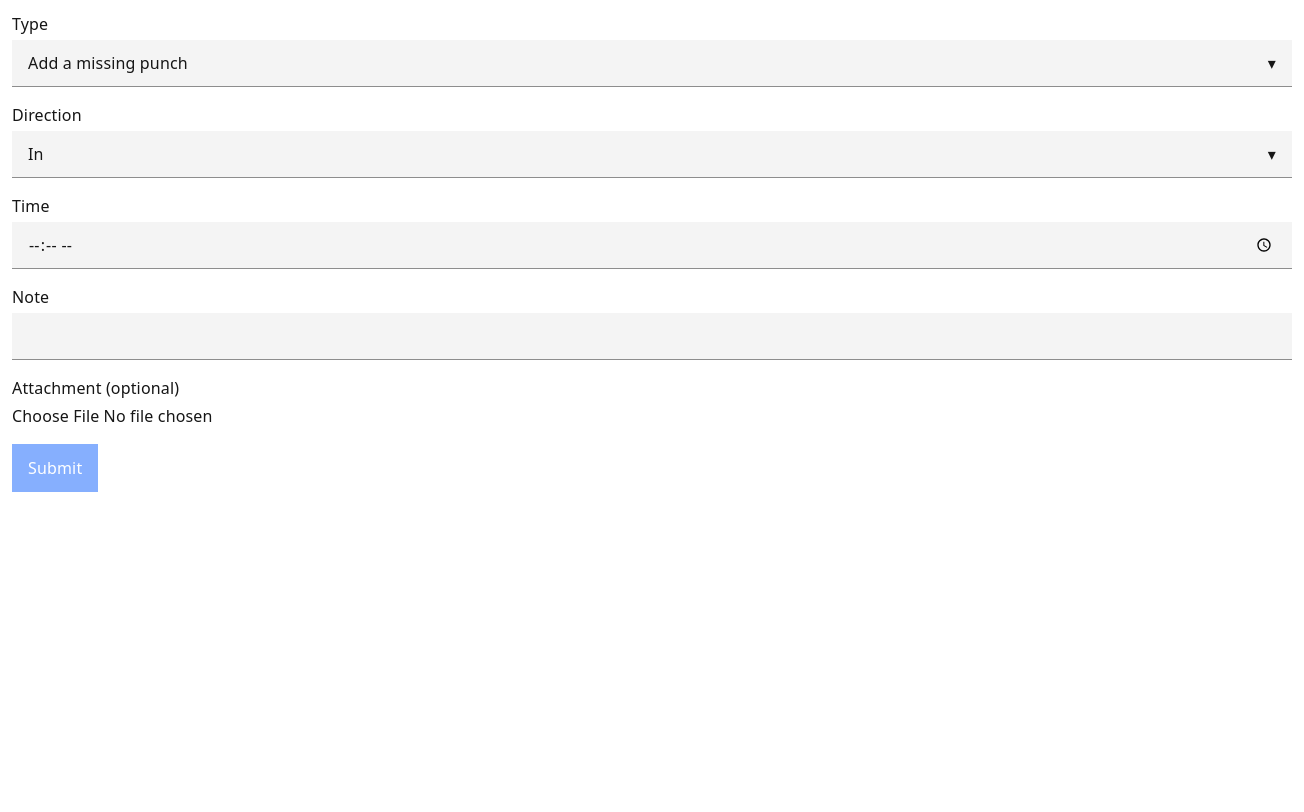
Test: CorrectionForm › shows both the target-punch picker AND direction + time for "amend"
This screenshot has width=1304, height=812.
Click the dropdown named "Type".
click(108, 63)  # box x1=12 y1=40 x2=1292 y2=87
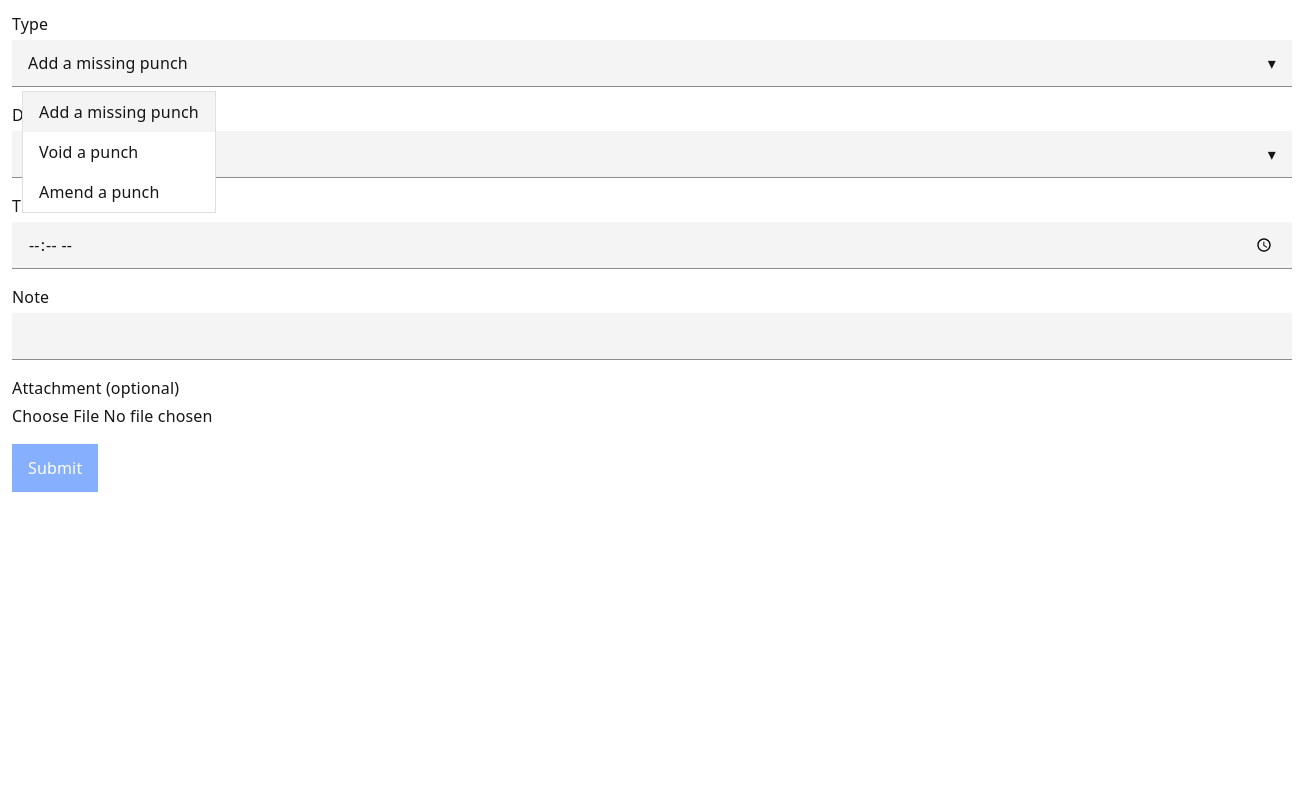
Click the option "Amend a punch".
click(99, 192)  # box x1=39 y1=181 x2=160 y2=203
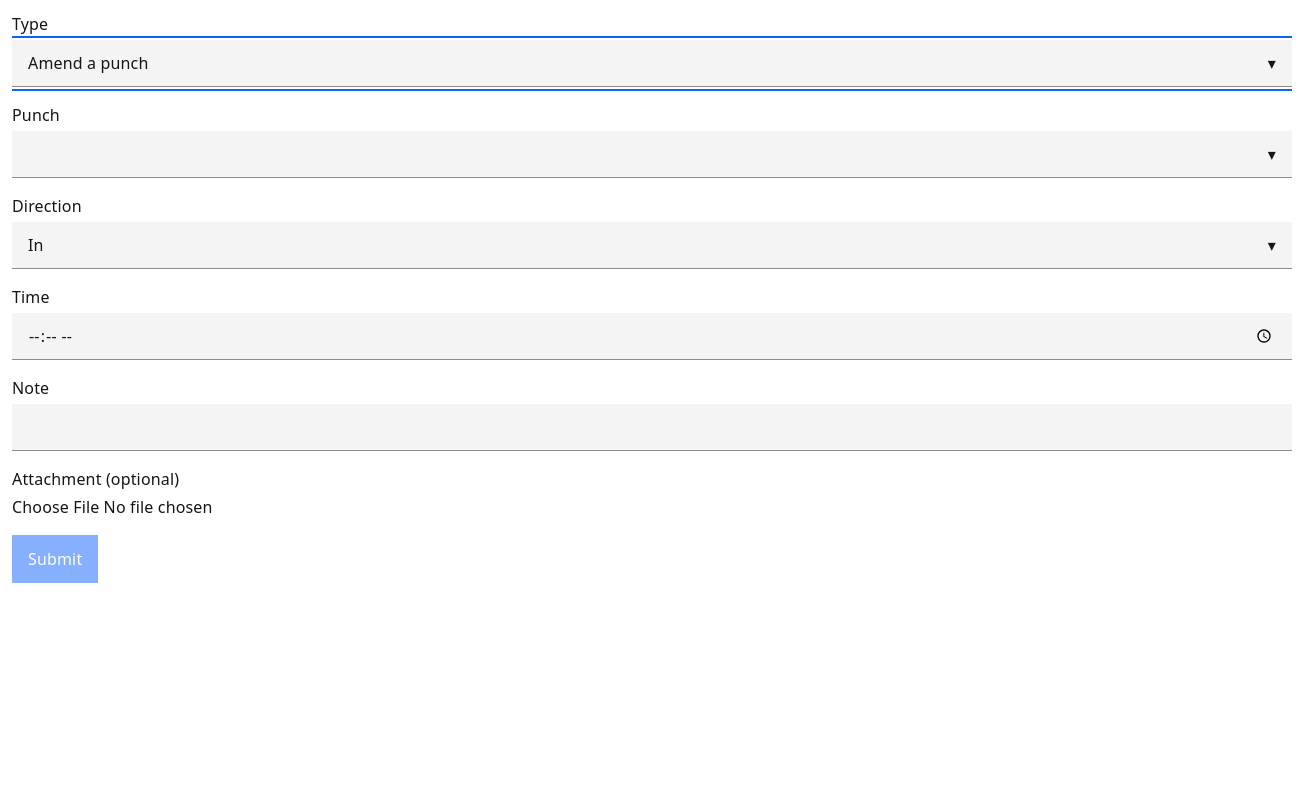
Expected: the dropdown named "Direction" is shown, x1=12 y1=222 x2=1292 y2=269
Now the dropdown named "Punch" is shown, box x1=12 y1=131 x2=1292 y2=178
